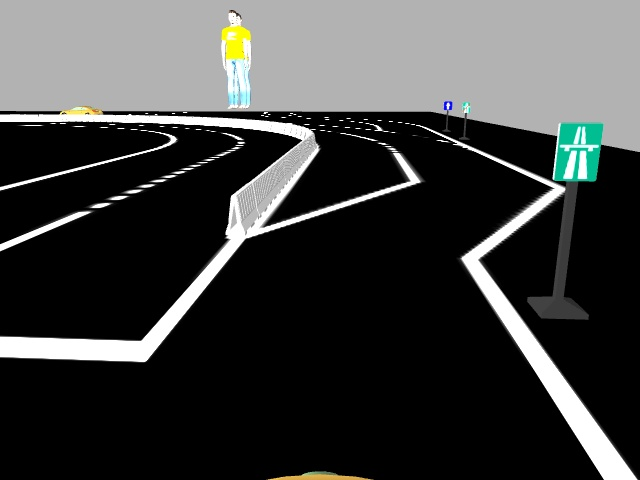HighwayEntrance: (552, 120, 597, 178)
